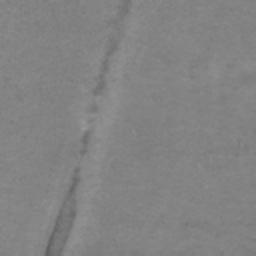Finishing roll printing: (90, 0, 134, 96), (42, 165, 83, 256), (77, 100, 100, 159)
